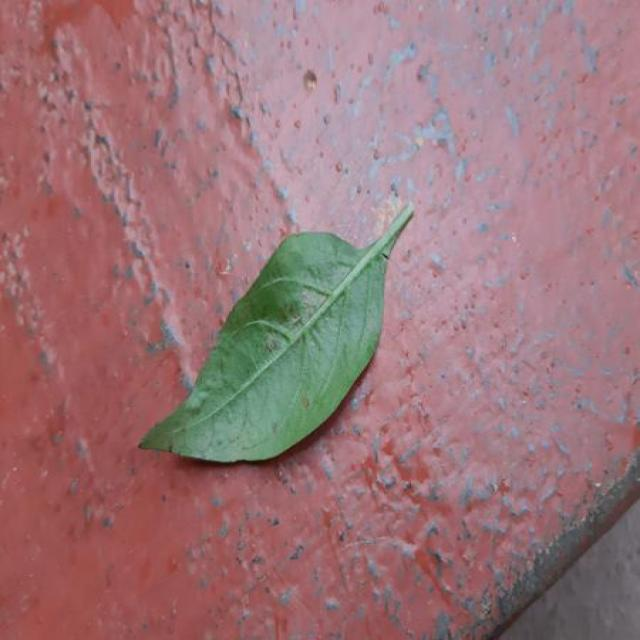chilly: (140, 205, 413, 462)
